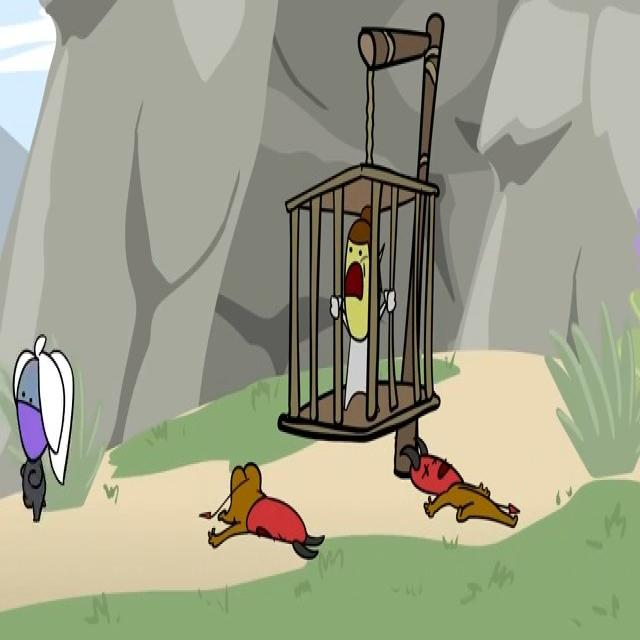miss Demeanor: (13, 334, 74, 522)
